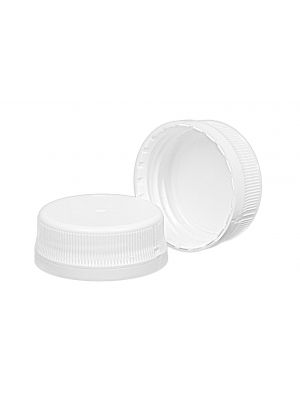PlasticCap: (30, 190, 162, 279)
